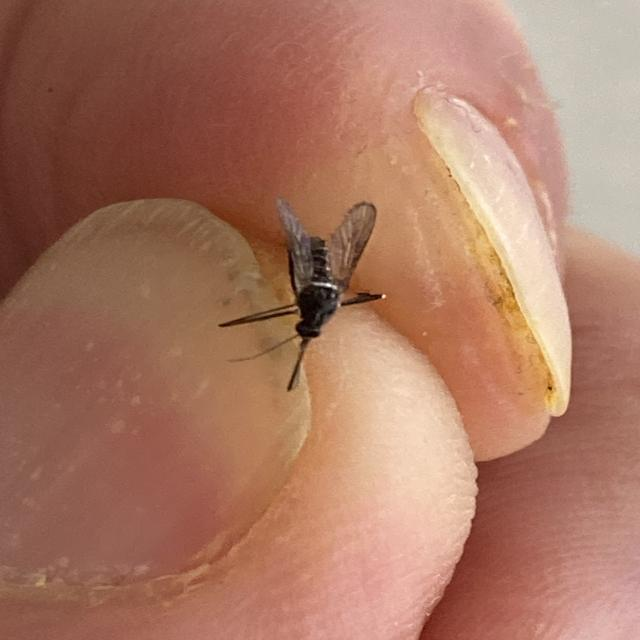albopictus: (210, 188, 398, 399)
